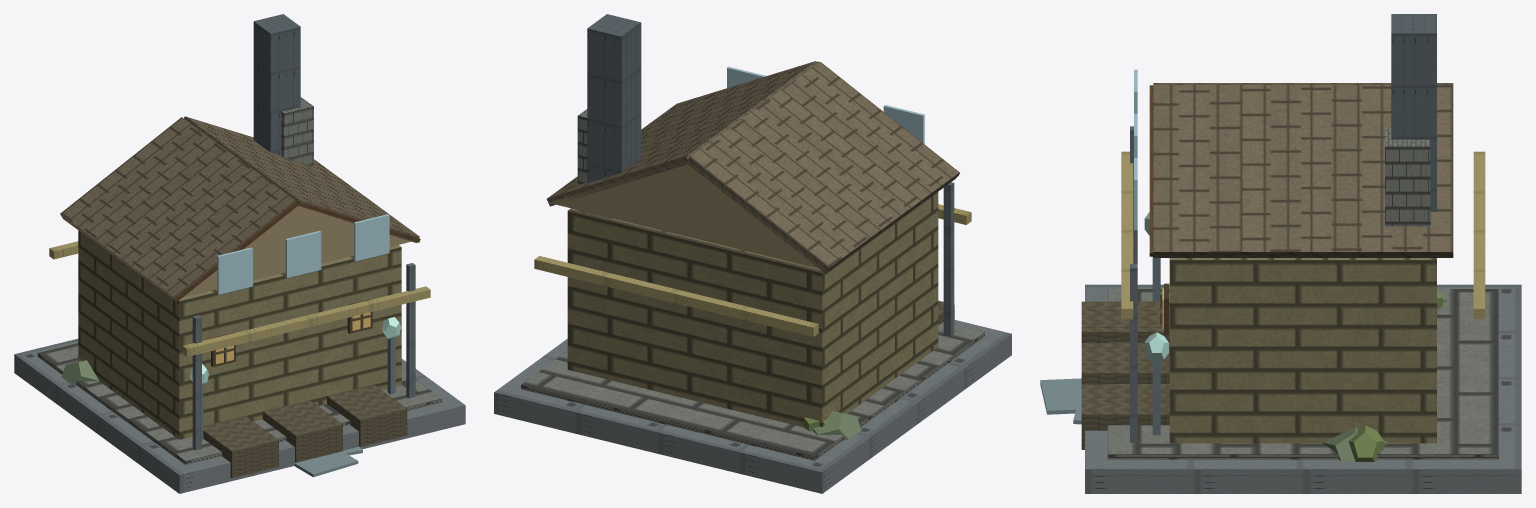
The model's file is procedural_nitrate@6.glb.
3 views of the same model, side by side, from view 1: azimuth 30°, elevation 25°; view 2: azimuth 150°, elevation 25°; view 3: azimuth 270°, elevation 25° (orthographic). The views are drawn at different scales.
Parts seen in each view (by area): view 1: part_0, part_1, part_28, part_7, part_29, part_25, part_2, part_34, part_35, part_31, part_30, part_32 (+6 smaller); view 2: part_0, part_1, part_28, part_25, part_2, part_29, part_33, part_26, part_17, part_35, part_30; view 3: part_0, part_1, part_28, part_25, part_7, part_29, part_35, part_33, part_34, part_27, part_12, part_20 (+4 smaller).
Part boxes in pixels (x1,y1,x2,y2): part_0: (78, 230, 401, 439); part_1: (60, 116, 419, 301); part_28: (14, 338, 465, 493); part_7: (203, 384, 407, 478); part_29: (253, 14, 300, 155); part_25: (37, 343, 442, 464); part_2: (183, 206, 410, 297); part_34: (182, 286, 430, 356); part_35: (281, 97, 313, 166); part_31: (285, 231, 321, 277); part_30: (217, 247, 252, 294); part_32: (354, 214, 389, 261); part_0: (567, 192, 938, 427); part_1: (546, 61, 958, 273); part_28: (494, 319, 1011, 493); part_25: (521, 322, 984, 460); part_2: (549, 161, 825, 270); part_29: (587, 14, 641, 183); part_33: (534, 256, 818, 336); part_26: (943, 182, 954, 336); part_17: (813, 411, 861, 439); part_35: (577, 109, 612, 218); part_30: (883, 105, 924, 143); part_0: (1169, 258, 1436, 443); part_1: (1153, 83, 1453, 257); part_28: (1085, 284, 1521, 493); part_25: (1107, 289, 1498, 459); part_7: (1081, 301, 1169, 449); part_29: (1391, 14, 1436, 211); part_35: (1385, 127, 1430, 226); part_33: (1473, 151, 1485, 319); part_34: (1121, 151, 1133, 319); part_27: (1130, 264, 1137, 442); part_12: (1040, 378, 1081, 414); part_20: (1348, 425, 1384, 461).
Bounding box in the file's own units: 6.7 × 7.32 × 7.39.
22 materials, 12 textured.
